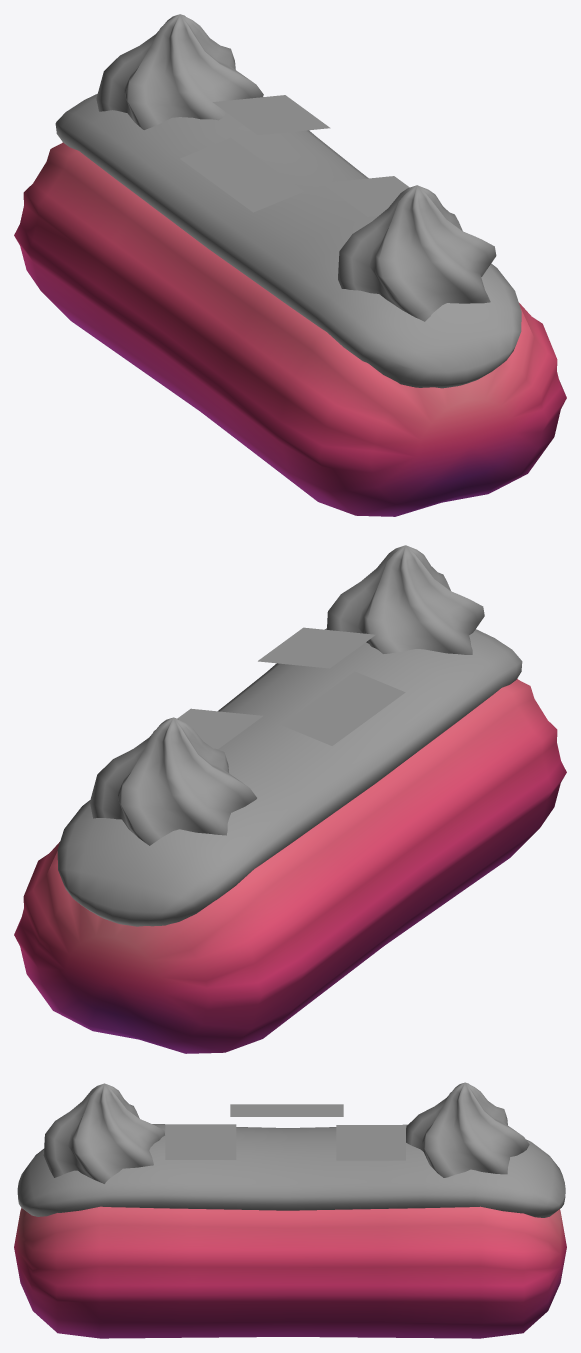
The model's file is eclair_pink.fbx.
3 views of the same model, one above another, from view 1: azimuth 30°, elevation 25°; view 2: azimuth 150°, elevation 25°; view 3: azimuth 270°, elevation 25° (orthographic). The views are drawn at different scales.
Parts seen in each view (by area): view 1: eclair_pink, chocolate_pink, merenga, smile; view 2: eclair_pink, chocolate_pink, merenga, smile; view 3: eclair_pink, chocolate_pink, merenga, smile.
Boxes of the visible parts, x1,y1,x2,y2 form: eclair_pink: [14, 142, 566, 516]; chocolate_pink: [55, 94, 521, 388]; merenga: [96, 14, 496, 321]; smile: [180, 95, 409, 216]; eclair_pink: [14, 679, 566, 1053]; chocolate_pink: [57, 628, 522, 926]; merenga: [90, 545, 484, 845]; smile: [177, 627, 405, 748]; eclair_pink: [14, 1206, 566, 1338]; chocolate_pink: [17, 1124, 565, 1217]; merenga: [43, 1082, 529, 1183]; smile: [165, 1104, 405, 1160].
Size of the model in its own units: 23.17 by 24.07 by 51.94.
